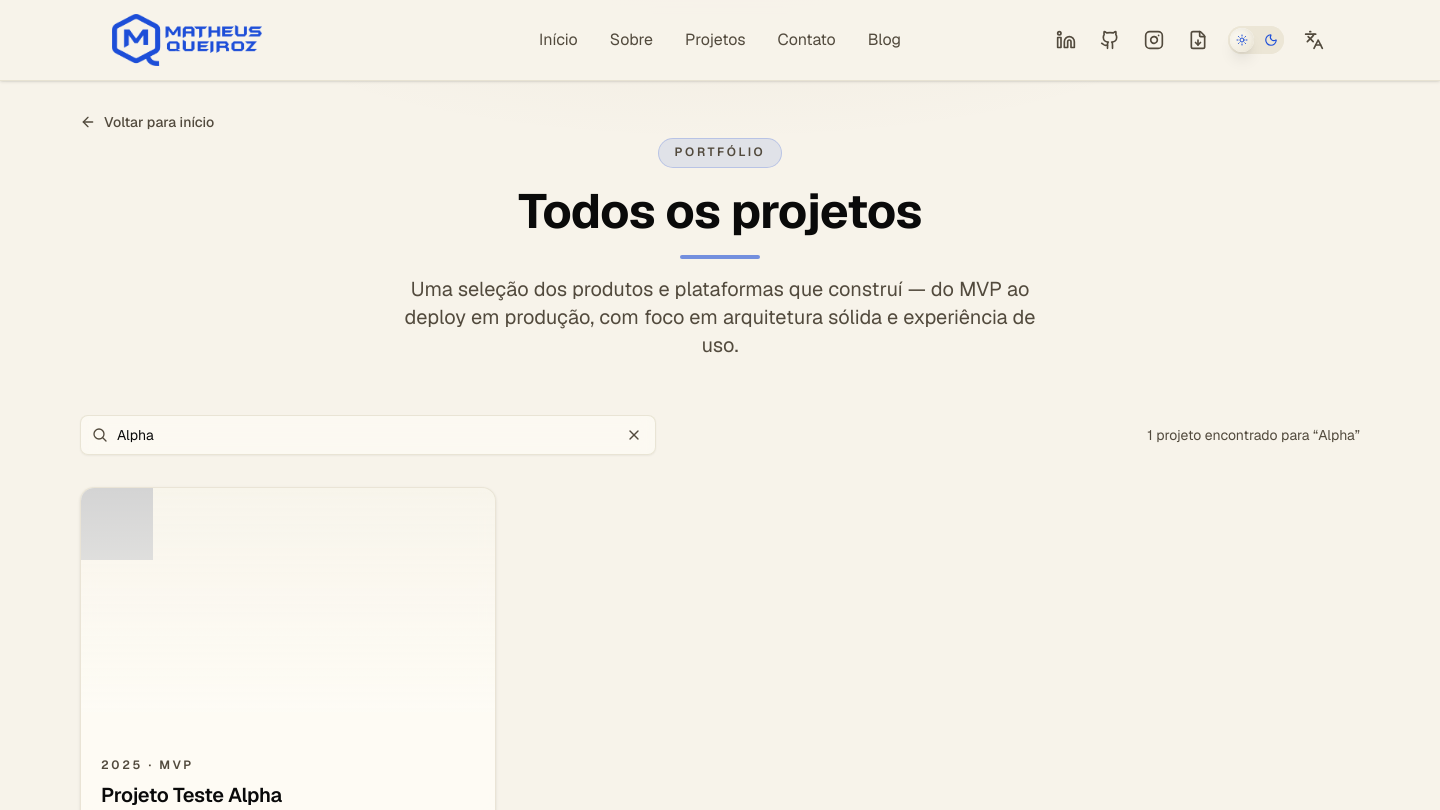
ProjectsIndexPage search bar › clears the search and resets the url
The image size is (1440, 810).
Click the button named "Limpar busca": point(634, 435) 618,419 -> 650,451
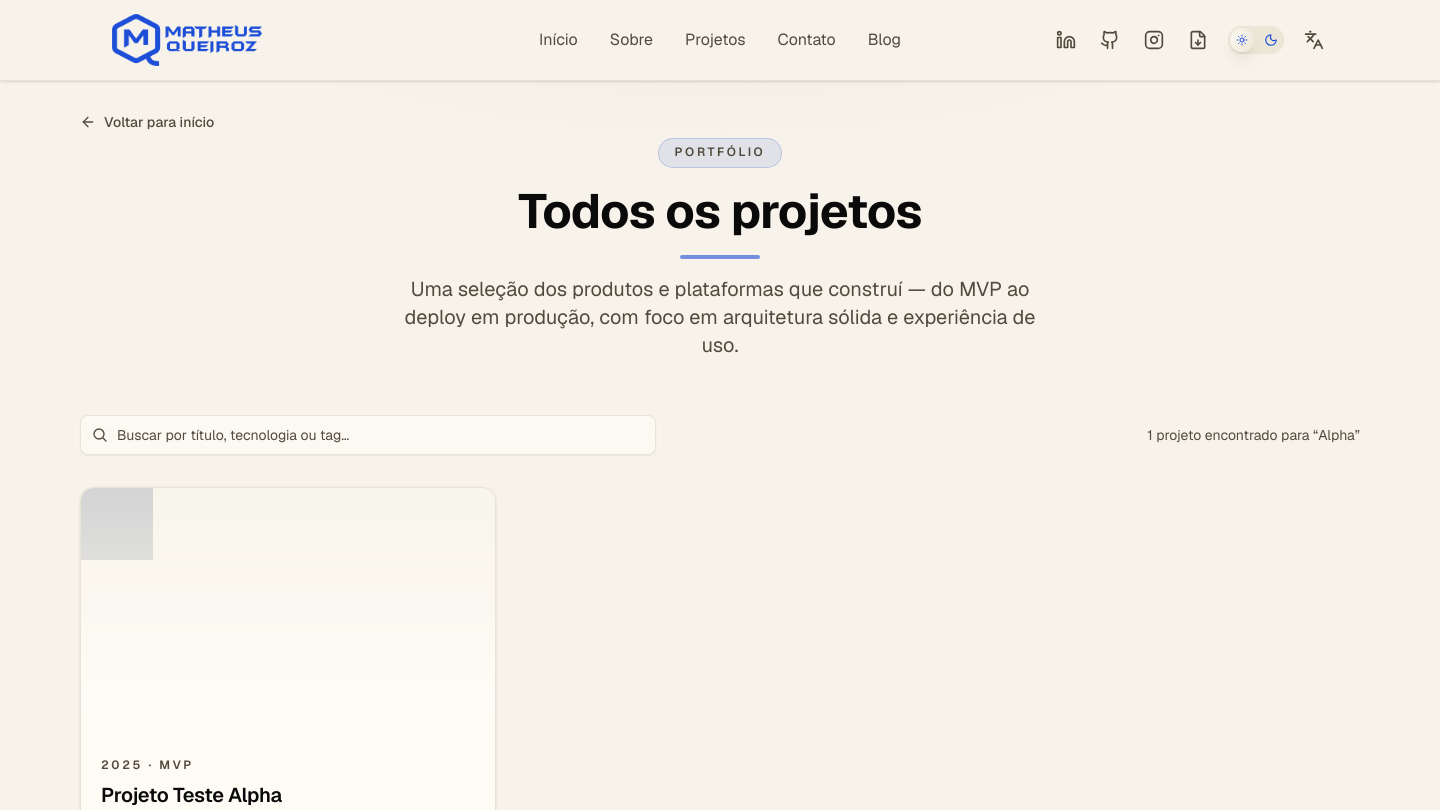
Check: the field labelled "Buscar por título, tecnologia ou tag…" is empty, box 80,415 -> 656,455
